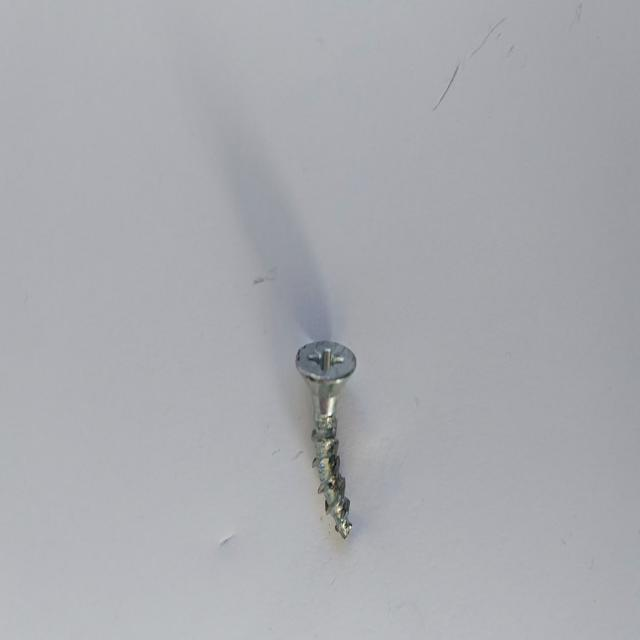Screw: (296, 340, 356, 538)
